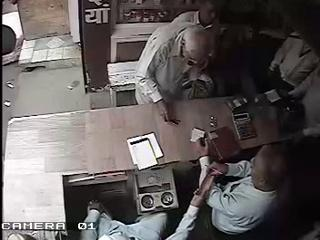Normal: (166, 144, 290, 240), (133, 0, 224, 122)
